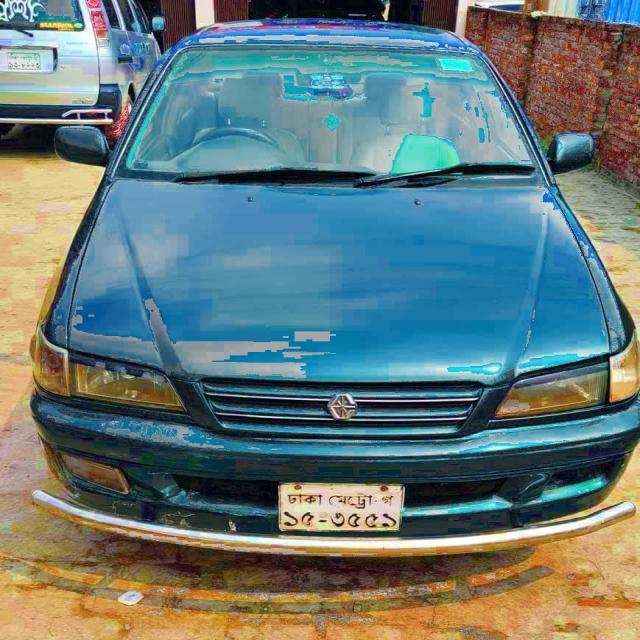green: (32, 18, 640, 607)
